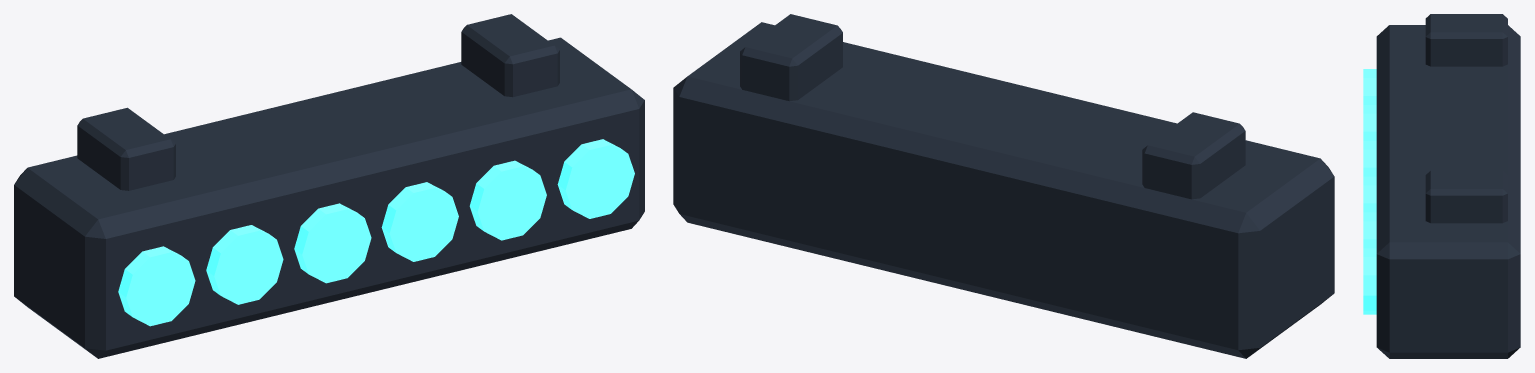
The model's file is light_wash.glb.
The picture shows the model from 3 angles, left to right: view 1: azimuth 30°, elevation 25°; view 2: azimuth 150°, elevation 25°; view 3: azimuth 270°, elevation 25°; orthographic projection. The views are drawn at different scales.
Parts seen in each view (by area): view 1: Corpo da barra, Suporte.002, Suporte.001, PAULI_WASH_LENS, PAULI_WASH_LENS.001, PAULI_WASH_LENS.002, PAULI_WASH_LENS.003, PAULI_WASH_LENS.005, PAULI_WASH_LENS.004; view 2: Corpo da barra, Suporte.001, Suporte.002; view 3: Corpo da barra, Suporte.002, Suporte.001, PAULI_WASH_LENS.005, PAULI_WASH_LENS.003, PAULI_WASH_LENS.004, PAULI_WASH_LENS, PAULI_WASH_LENS.001, PAULI_WASH_LENS.002.
Part boxes in pixels (<box>): Corpo da barra: <box>14,37,644,358</box>; Suporte.002: <box>461,14,559,97</box>; Suporte.001: <box>77,107,175,190</box>; PAULI_WASH_LENS: <box>118,246,195,326</box>; PAULI_WASH_LENS.001: <box>206,225,283,304</box>; PAULI_WASH_LENS.002: <box>294,203,371,283</box>; PAULI_WASH_LENS.003: <box>381,182,458,261</box>; PAULI_WASH_LENS.005: <box>557,139,634,218</box>; PAULI_WASH_LENS.004: <box>469,160,546,240</box>; Corpo da barra: <box>673,22,1334,358</box>; Suporte.001: <box>1142,112,1245,199</box>; Suporte.002: <box>740,14,842,101</box>; Corpo da barra: <box>1376,25,1520,358</box>; Suporte.002: <box>1425,170,1507,223</box>; Suporte.001: <box>1425,14,1507,66</box>; PAULI_WASH_LENS.005: <box>1363,248,1376,314</box>; PAULI_WASH_LENS.003: <box>1363,176,1376,212</box>; PAULI_WASH_LENS.004: <box>1363,212,1376,248</box>; PAULI_WASH_LENS: <box>1363,69,1376,104</box>; PAULI_WASH_LENS.001: <box>1363,105,1376,140</box>; PAULI_WASH_LENS.002: <box>1363,141,1376,176</box>.
Bounding box in the file's own units: 1.05 × 0.319 × 0.306.
